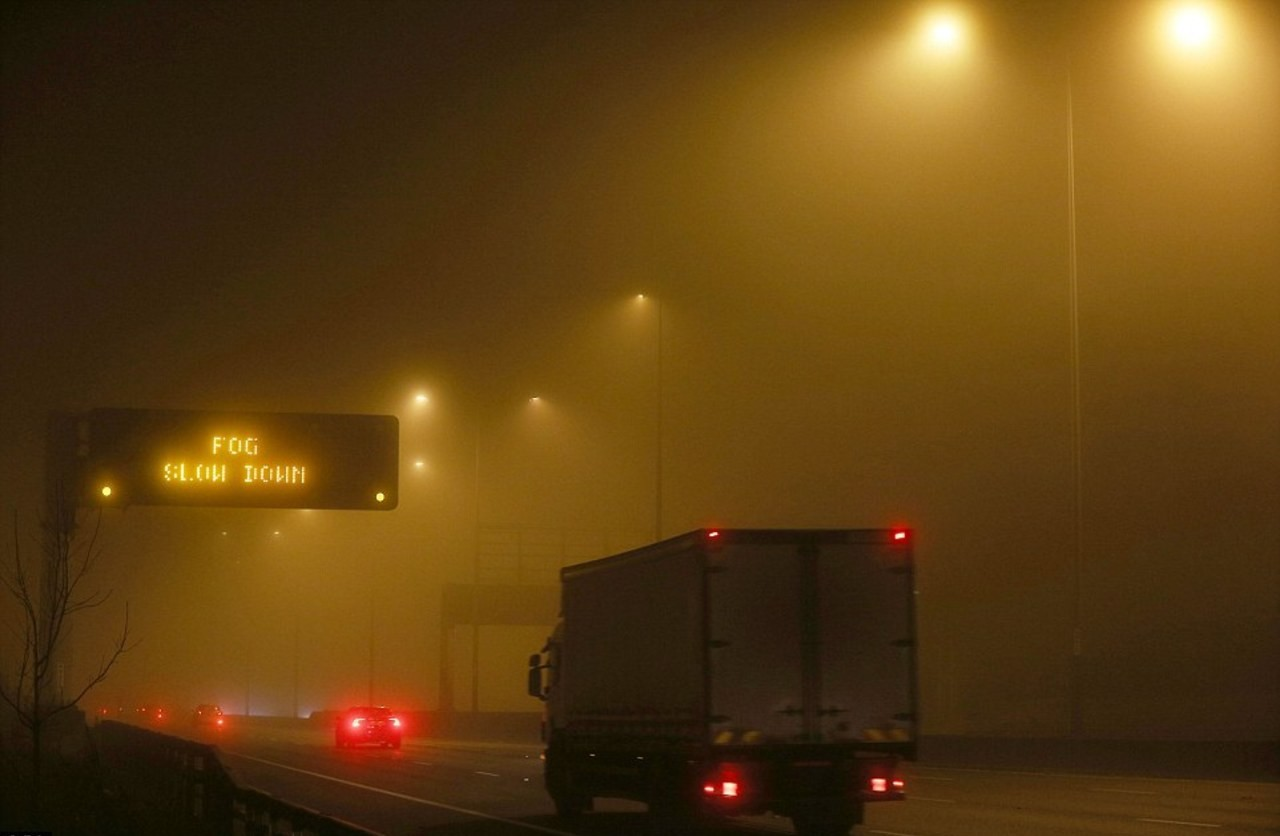car: (334, 701, 401, 746), (190, 702, 224, 727)
truck: (536, 520, 925, 833)
